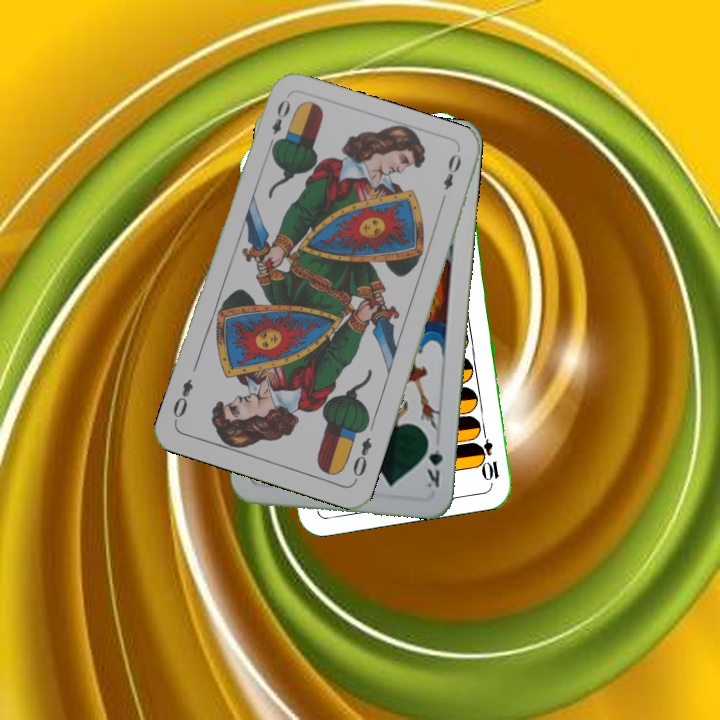E10: (476, 424, 502, 483)
EO: (264, 95, 293, 152), (348, 433, 375, 484)
GK: (423, 433, 445, 490)
